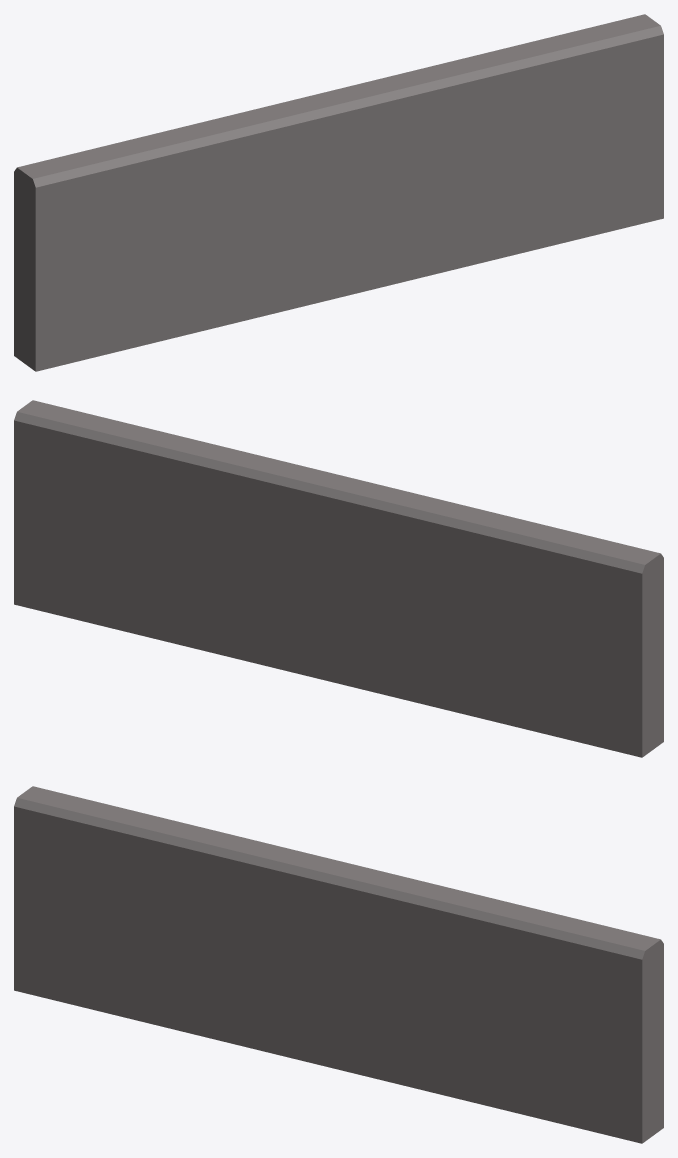
Rendered from wall-concrete.glb.
The picture shows the model from 3 angles, top to bottom: view 1: azimuth 30°, elevation 25°; view 2: azimuth 150°, elevation 25°; view 3: azimuth 330°, elevation 25°; orthographic projection.
Parts seen in each view (by area): view 1: wall-concrete; view 2: wall-concrete; view 3: wall-concrete.
Boxes of the visible parts, left/top/right/bottom form: wall-concrete: left=14, top=14, right=663, bottom=371; wall-concrete: left=14, top=400, right=663, bottom=757; wall-concrete: left=14, top=786, right=663, bottom=1143.
Size of the model in its own units: 5 by 1.45 by 0.3002.
1 material, 1 textured.
